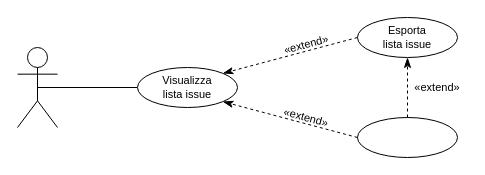
Image size: 485x175. Some labels were removed from this diagram. The centre of each missing label's shape, as x and y in pixels:
Filtra e ordina lista issue: (x=407, y=137)
Lurker: (x=37, y=87)
